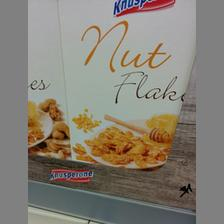Cerealien: (56, 1, 194, 172)
